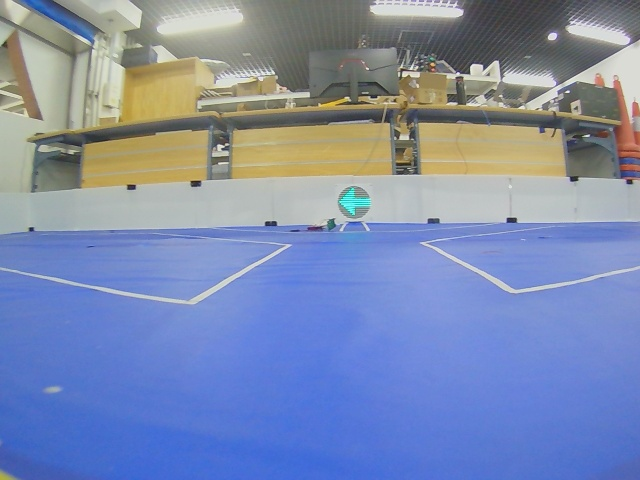left_green: (338, 186, 371, 219)
